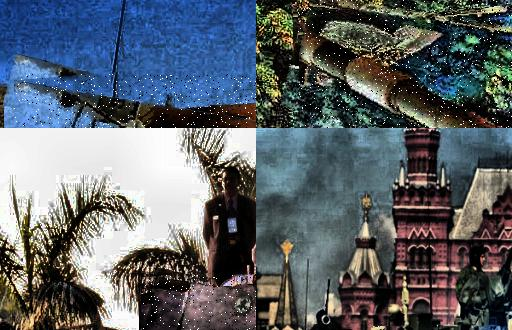tanks: (299, 1, 512, 129), (15, 76, 257, 129), (397, 252, 512, 330), (145, 275, 257, 330), (311, 310, 346, 330), (376, 328, 386, 330)
